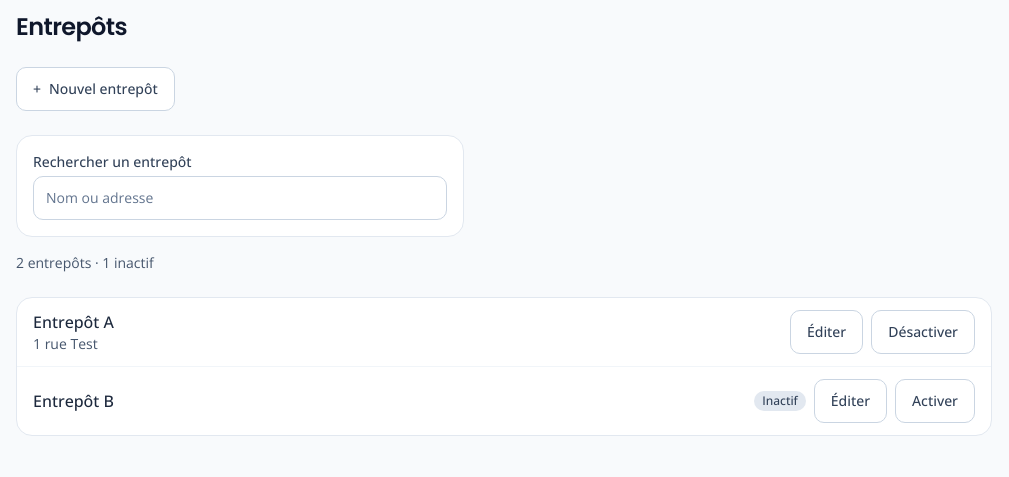
WarehousesPage › pre-fills the edit form with the current values, not stale ones, on each open
This screenshot has width=1009, height=477.
Expected: the text "Entrepôt A" is shown, [33,310,114,334]
Click the button "Éditer" in the row of "Entrepôt A".
click(827, 332)  # box [790,310,863,354]
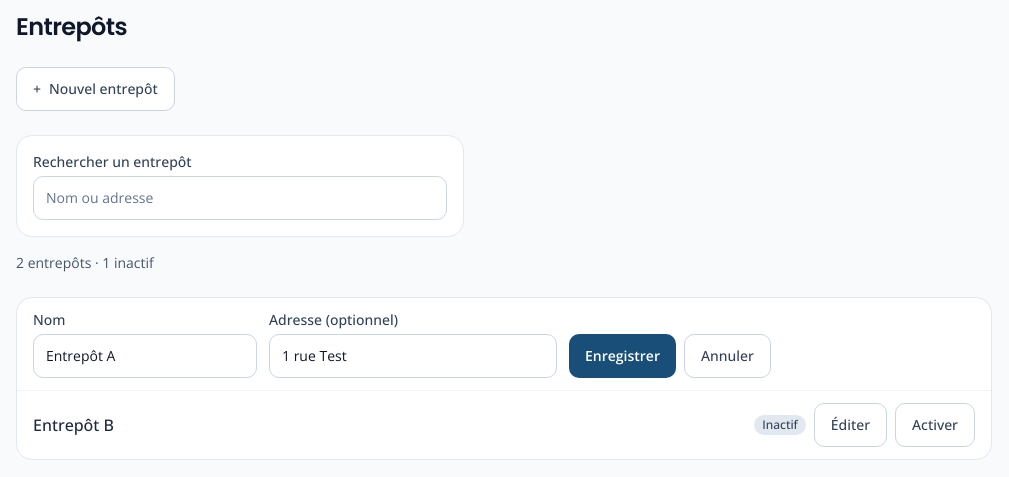
Result: the field labelled "Nom" holds "Entrepôt A" at [33,334,257,378]
Click the button "Annuler".
click(727, 356)  # box [684,334,771,378]
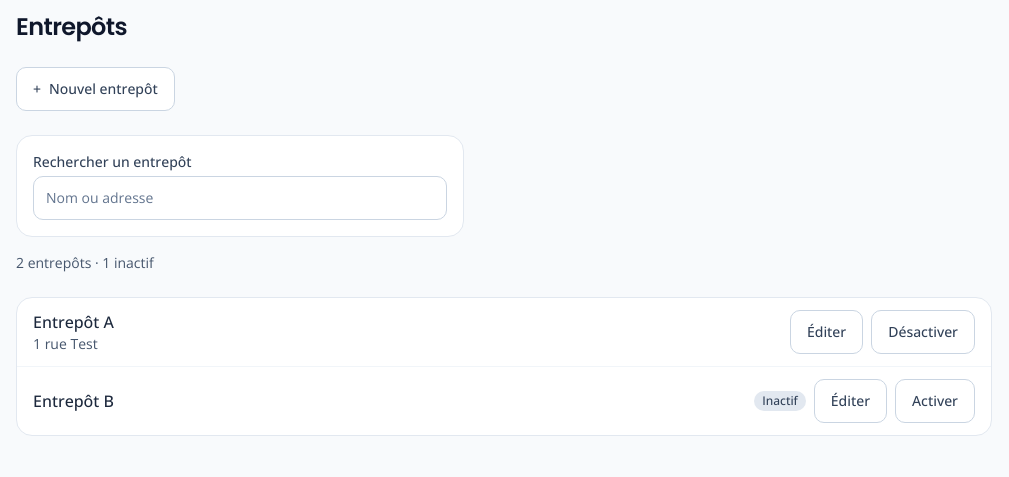
Click the button "Éditer" in the row of "Entrepôt A".
click(827, 332)  # box [790,310,863,354]
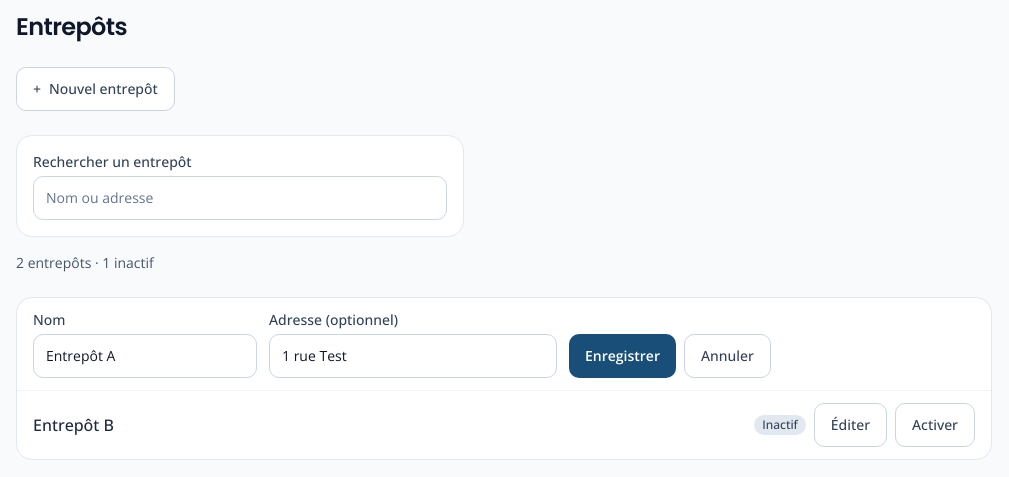
Result: the field labelled "Nom" holds "Entrepôt A" at [33,334,257,378]
